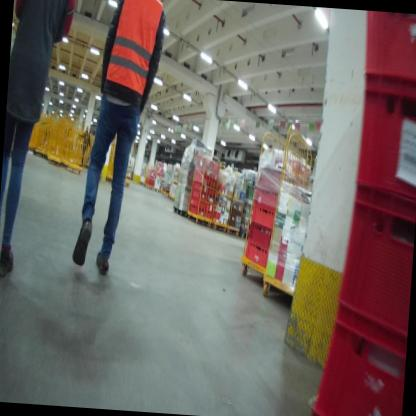small_load_carrier: (319, 189, 415, 360), (305, 296, 406, 416), (350, 69, 416, 216), (356, 14, 416, 88), (254, 165, 284, 199), (251, 198, 278, 228), (243, 236, 268, 266), (248, 223, 273, 252), (189, 196, 204, 209), (192, 179, 206, 192), (191, 190, 204, 202), (189, 205, 202, 216)
